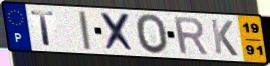I: (77, 10, 94, 51)
K: (208, 18, 240, 58)
O: (134, 13, 171, 56)
R: (172, 15, 211, 57)
T: (29, 10, 57, 47)
X: (99, 11, 137, 54)
